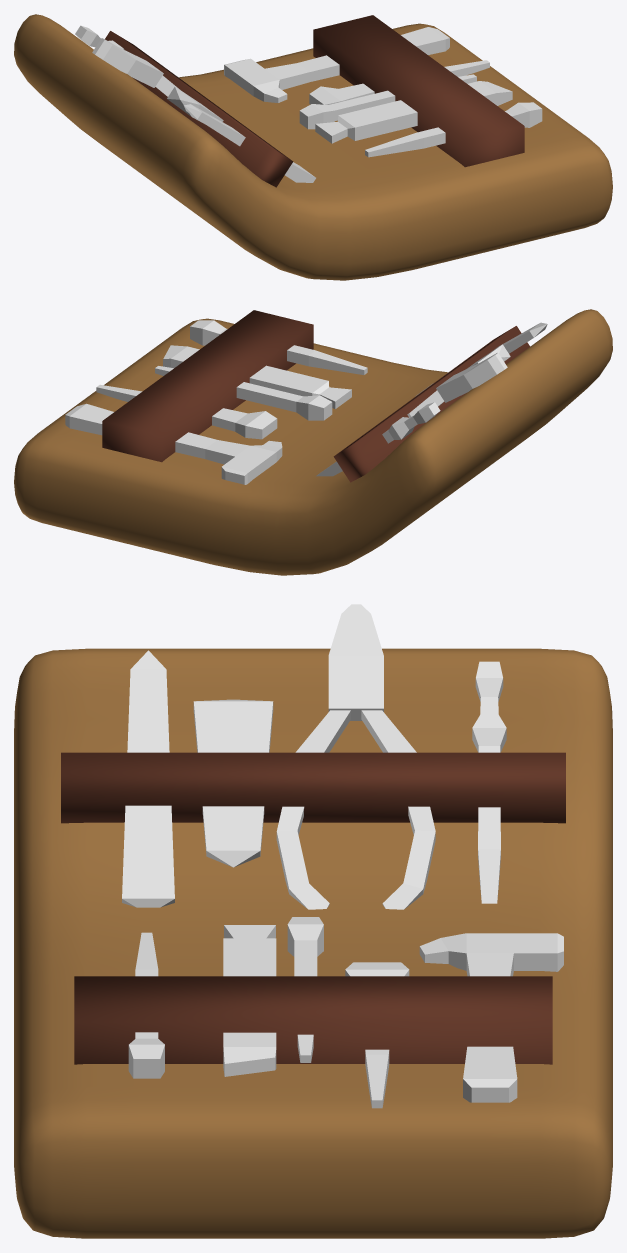
The model's file is UpgradeKit.fbx.
The picture shows the model from 3 angles, top to bottom: view 1: azimuth 30°, elevation 25°; view 2: azimuth 150°, elevation 25°; view 3: azimuth 270°, elevation 25°; orthographic projection. The views are drawn at different scales.
Visible parts, largest first — view 1: Cube, Cube.001, Cube.007, Cube.002, Cube.004, Cube.003, Cube.010, Cube.005, Cube.006, Cube.008, Cube.009, Cube.011; view 2: Cube, Cube.001, Cube.007, Cube.002, Cube.004, Cube.005, Cube.006, Cube.003, Cube.010, Cube.011, Cube.008; view 3: Cube, Cube.001, Cube.002, Cube.010, Cube.008, Cube.007, Cube.009, Cube.004, Cube.011, Cube.003, Cube.005, Cube.006.
Part boxes in pixels (bbox=[...]): Cube: bbox=[14, 14, 612, 280]; Cube.001: bbox=[313, 15, 524, 167]; Cube.007: bbox=[224, 27, 449, 102]; Cube.002: bbox=[105, 31, 293, 187]; Cube.004: bbox=[315, 81, 512, 143]; Cube.003: bbox=[365, 102, 542, 157]; Cube.010: bbox=[92, 38, 179, 96]; Cube.005: bbox=[299, 74, 476, 129]; Cube.006: bbox=[309, 60, 489, 104]; Cube.008: bbox=[184, 104, 315, 182]; Cube.009: bbox=[167, 86, 223, 123]; Cube.011: bbox=[75, 25, 124, 49]; Cube: bbox=[14, 309, 612, 575]; Cube.001: bbox=[102, 310, 313, 462]; Cube.007: bbox=[65, 403, 282, 484]; Cube.002: bbox=[333, 326, 529, 482]; Cube.004: bbox=[163, 345, 351, 409]; Cube.005: bbox=[155, 366, 332, 420]; Cube.006: bbox=[96, 384, 277, 439]; Cube.003: bbox=[190, 320, 367, 374]; Cube.010: bbox=[407, 353, 507, 417]; Cube.011: bbox=[316, 402, 440, 476]; Cube.008: bbox=[415, 322, 547, 396]; Cube: bbox=[14, 648, 612, 1238]; Cube.001: bbox=[74, 976, 552, 1064]; Cube.002: bbox=[61, 752, 565, 823]; Cube.010: bbox=[276, 604, 435, 909]; Cube.008: bbox=[122, 650, 174, 907]; Cube.007: bbox=[419, 933, 563, 1102]; Cube.009: bbox=[193, 699, 273, 867]; Cube.004: bbox=[223, 925, 276, 1076]; Cube.011: bbox=[472, 661, 506, 903]; Cube.003: bbox=[128, 932, 164, 1078]; Cube.005: bbox=[287, 917, 323, 1062]; Cube.006: bbox=[345, 962, 409, 1108].
Bounding box in the file's own units: 258 × 122 × 199.
